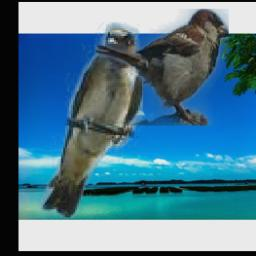Sparrow: (94, 9, 229, 126)
Swallow: (38, 23, 144, 219)
